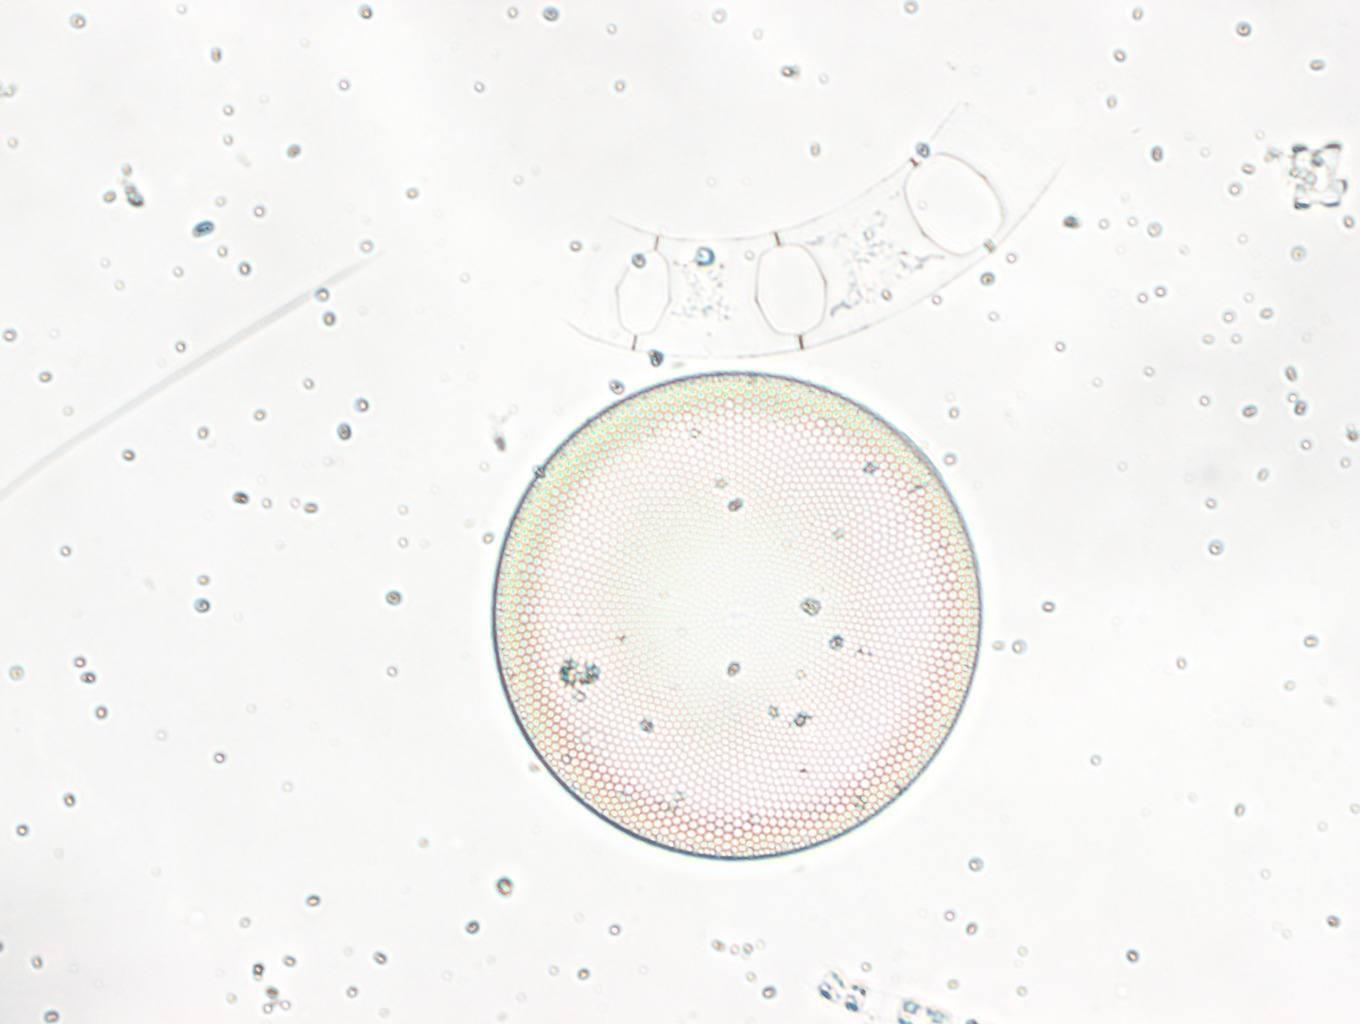coscinodiscus: (487, 368, 982, 864)
eucampia: (564, 93, 1065, 359)
